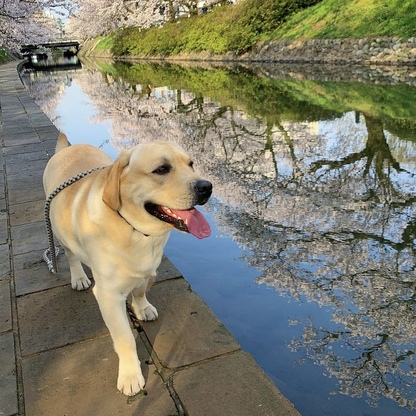labrado: (39, 124, 217, 401)
